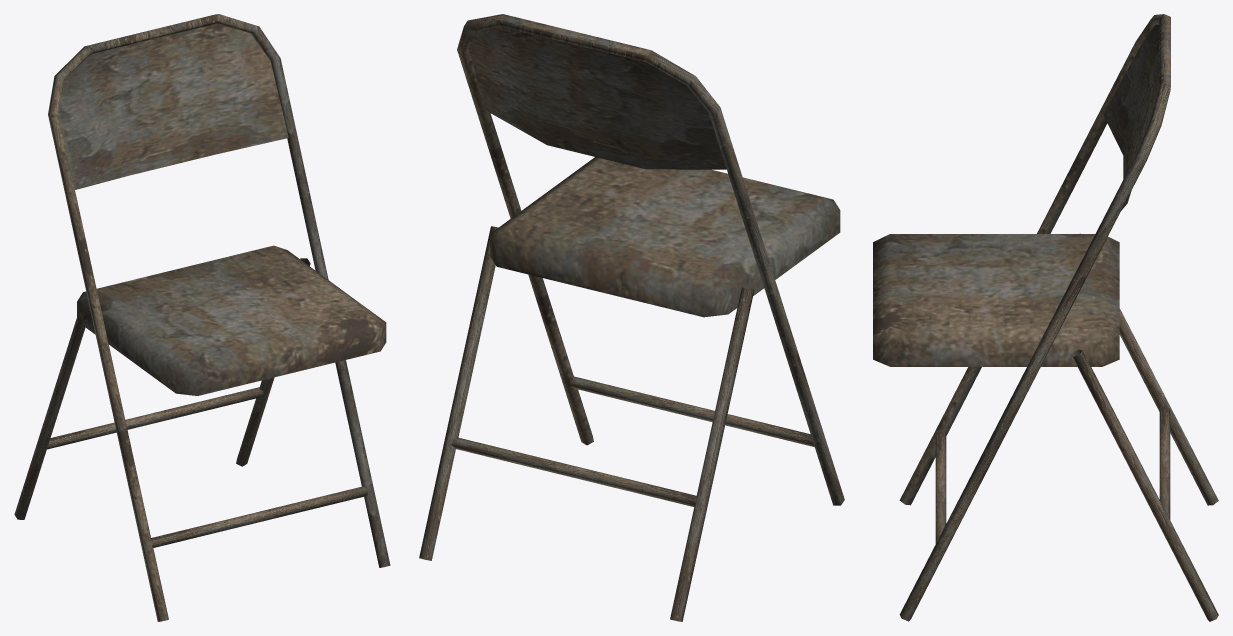
Rendered from cj_foldchair.obj.
3 views of the same model, side by side, from view 1: azimuth 30°, elevation 25°; view 2: azimuth 150°, elevation 25°; view 3: azimuth 270°, elevation 25° (orthographic). The views are drawn at different scales.
Visible parts, largest first — view 1: CJ_FOLDCHAIR; view 2: CJ_FOLDCHAIR; view 3: CJ_FOLDCHAIR.
Part boxes in pixels (box(x1,y1,x2,y2)): CJ_FOLDCHAIR: box(14, 14, 390, 621); CJ_FOLDCHAIR: box(419, 14, 844, 621); CJ_FOLDCHAIR: box(873, 14, 1218, 621).
Bounding box in the file's own units: 0.4595 × 0.9149 × 0.5579.
